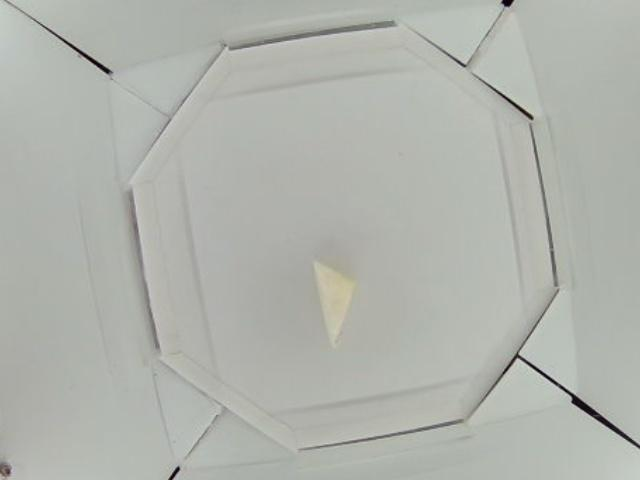Mooli: (315, 264, 355, 344)
